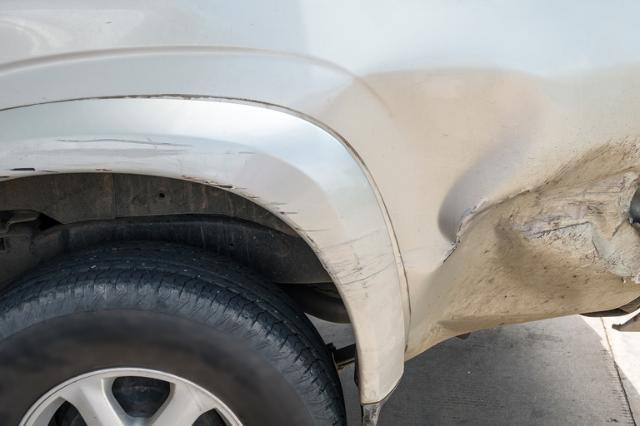Bumper: (396, 84, 640, 346)
